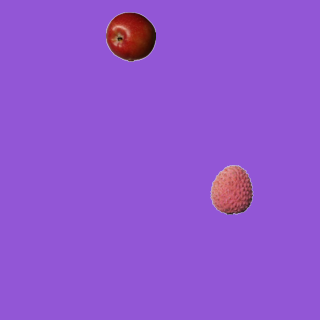Apple Braeburn: (105, 11, 155, 61)
Lychee: (206, 164, 256, 214)
